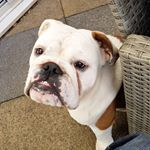puppy: (21, 15, 120, 150)
